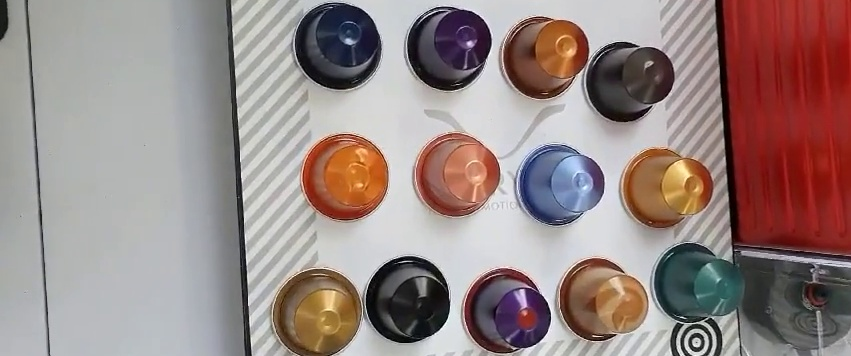capsule_1: (293, 1, 384, 90)
capsule_10: (362, 253, 450, 345)
capsule_11: (462, 265, 552, 356)
capsule_12: (554, 257, 650, 343)
capsule_13: (645, 241, 746, 326)
capsule_2: (402, 6, 494, 94)
capsule_3: (497, 14, 591, 102)
capsule_4: (585, 38, 677, 122)
capsule_5: (302, 128, 390, 219)
capsule_6: (412, 131, 503, 221)
capsule_7: (514, 142, 605, 227)
capsule_8: (620, 147, 715, 230)
capsule_9: (269, 265, 364, 356)
